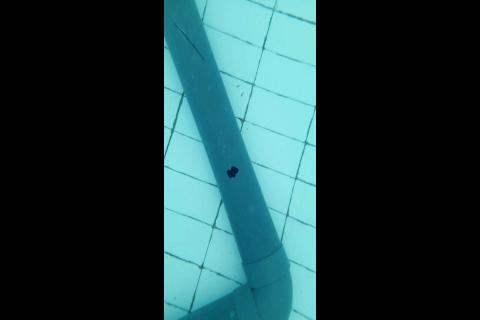kebocoran: (225, 164, 239, 179)
keretakan: (172, 19, 207, 63)
